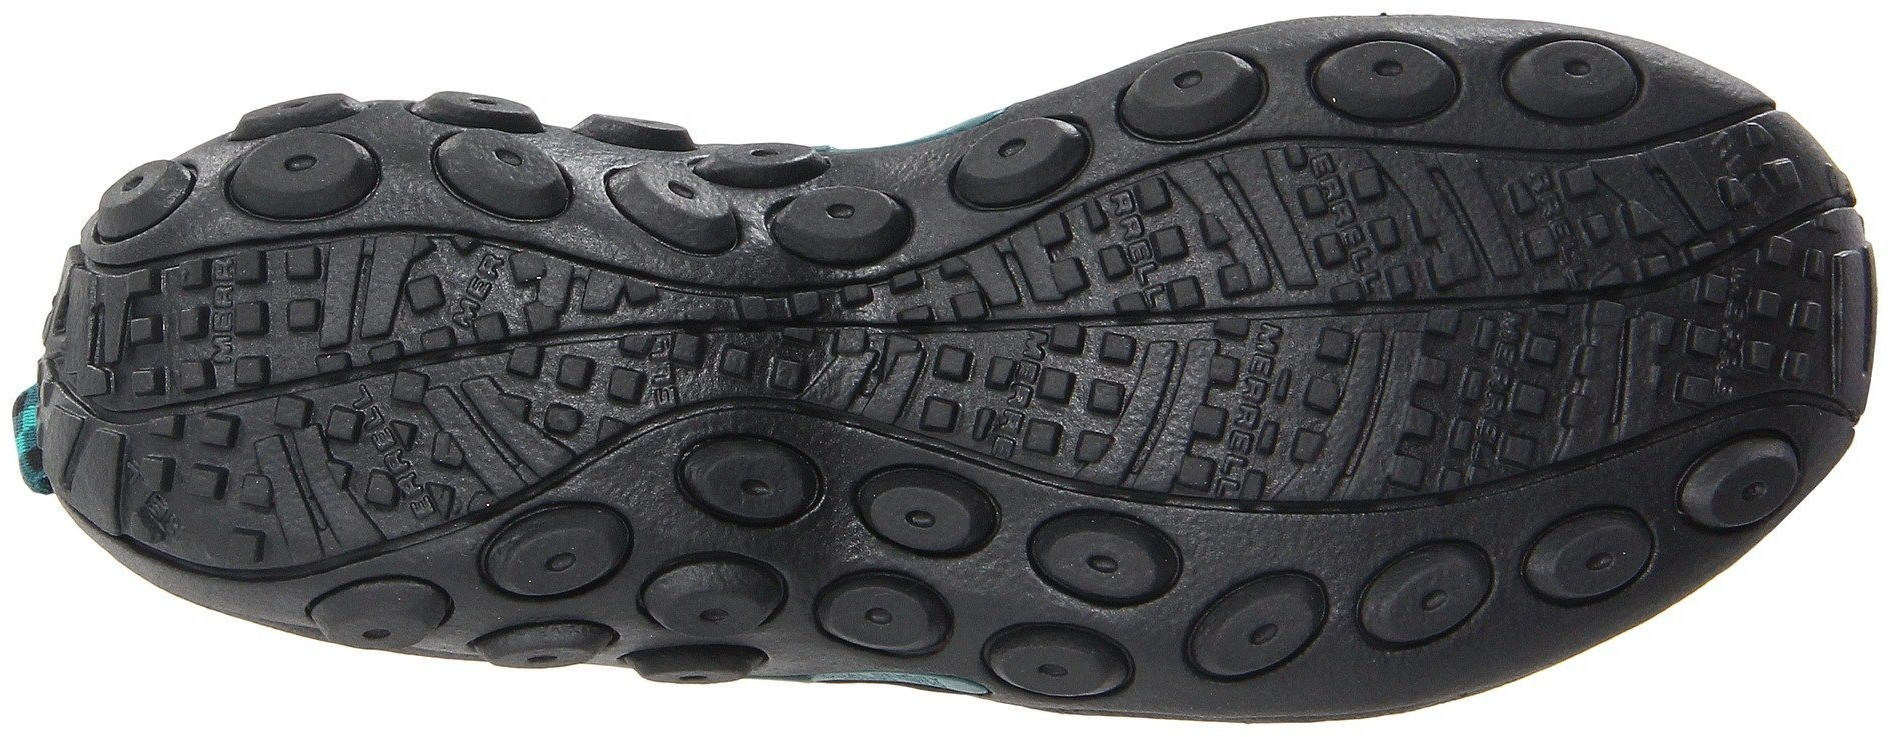circle: (633, 467, 894, 674), (899, 497, 1100, 704), (1114, 533, 1316, 716), (1348, 523, 1531, 683), (466, 103, 646, 263), (944, 96, 1129, 236), (1303, 5, 1478, 148)
quad: (1154, 182, 1445, 454), (1458, 177, 1709, 426), (346, 257, 577, 479), (916, 267, 1134, 452), (171, 242, 322, 402)
text: (1154, 182, 1445, 454), (1458, 177, 1709, 426), (346, 257, 577, 479), (916, 267, 1134, 452), (171, 242, 322, 402)
triangle: (1458, 177, 1709, 426), (346, 257, 577, 479)
